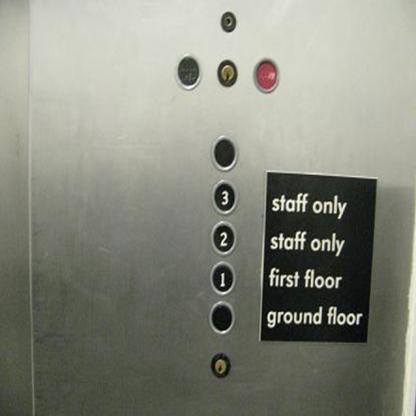1: (209, 260, 235, 295)
2: (209, 218, 236, 254)
3: (210, 179, 238, 213)
blur: (252, 56, 280, 94), (176, 54, 202, 88)
empty: (210, 134, 237, 170), (208, 300, 235, 334)
keyhole: (208, 350, 231, 379), (216, 58, 238, 88)
